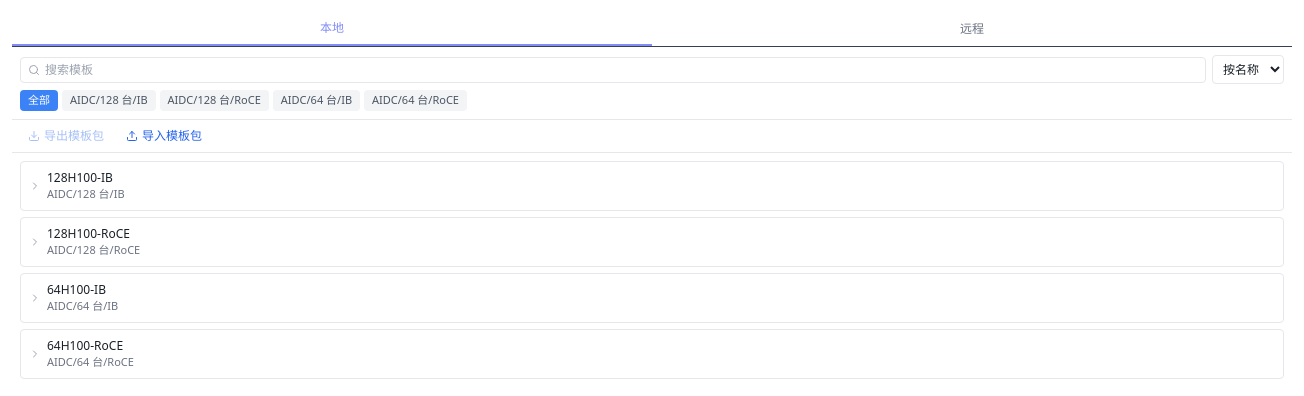
4.9.0 模板中心远程 tab › 未登录显示登录提示
Click the button "远程".
click(972, 29)  # box [652, 12, 1292, 46]
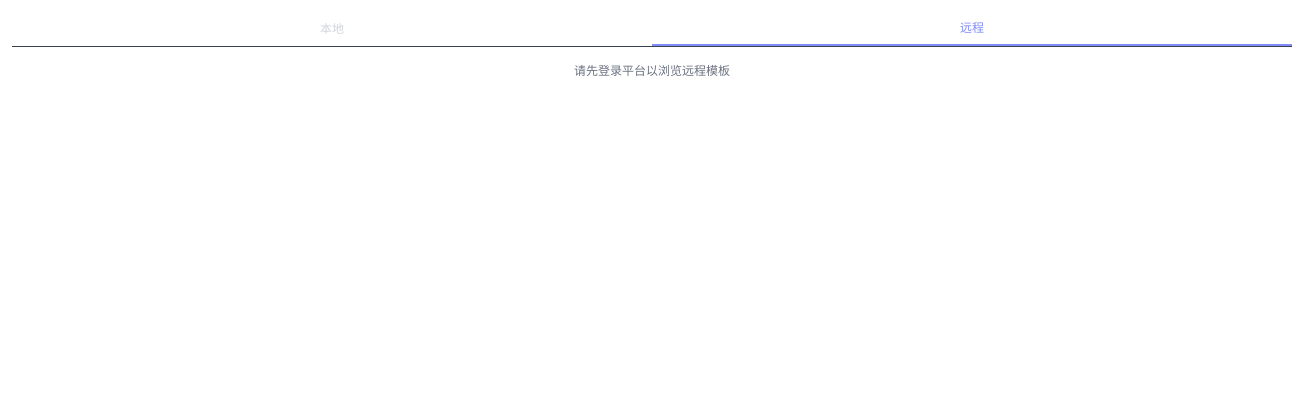
Result: the text "请先登录平台以浏览远程模板" is shown at [574, 62, 730, 79]
